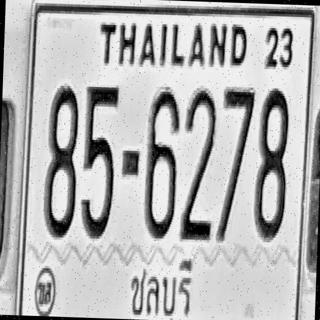N02: (180, 86, 217, 241)
N05: (80, 84, 120, 239)
N06: (144, 86, 180, 239)
N07: (217, 84, 255, 242)
N08: (253, 85, 290, 240), (43, 82, 79, 238)
P13: (128, 252, 198, 320)
